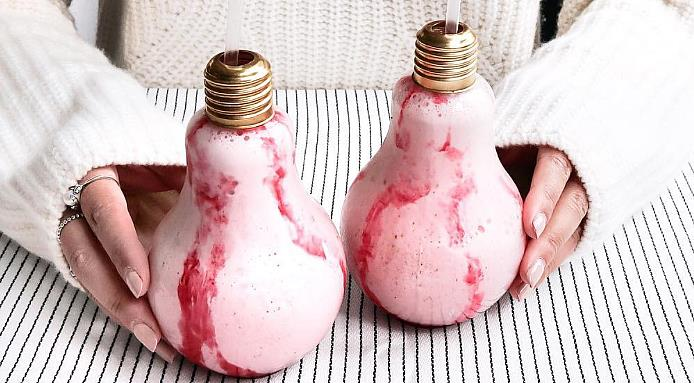Nonrec_Glass: (144, 37, 352, 377), (344, 5, 531, 337)
